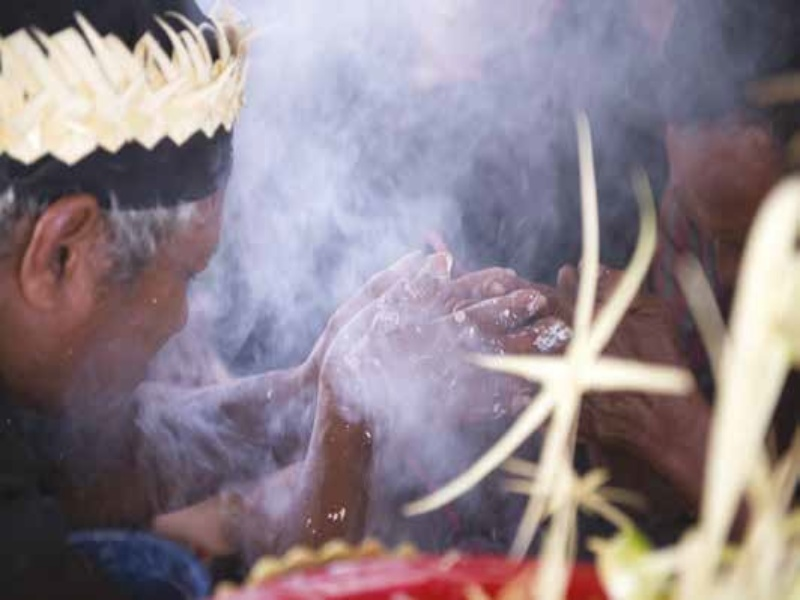smoke: (244, 1, 519, 406)
